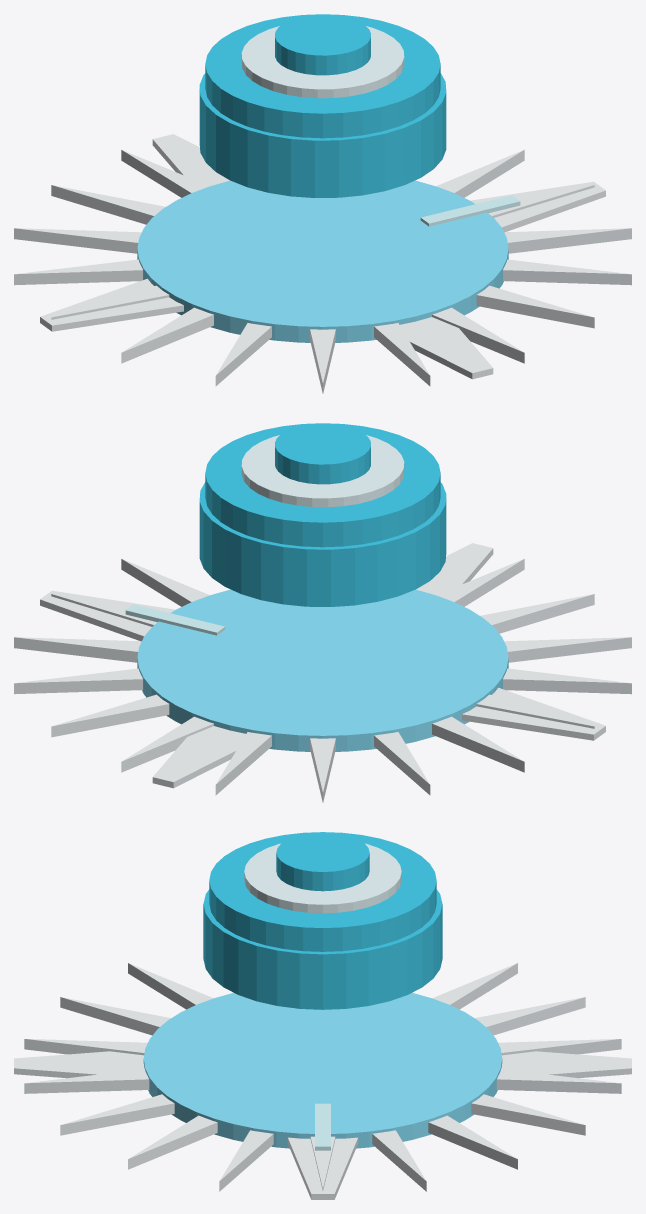
File: cutter-v1.glb
3 views of the same model, one above another, from view 1: azimuth 30°, elevation 25°; view 2: azimuth 150°, elevation 25°; view 3: azimuth 270°, elevation 25° (orthographic). The views are drawn at different scales.
Visible parts, largest first — view 1: GB_Saw_Ring, GB_Hub_Base, GB_Hub_Outer_Ring, GB_FourArm_ROTATING, GB_Hub_Inner_Ring, GB_Hub_Cap, GB_Saw_Tooth_17, GB_Saw_Tooth_09, GB_Saw_Tooth_08, GB_Saw_Tooth_18, GB_Saw_Tooth_16, GB_Saw_Tooth_07 (+10 smaller); view 2: GB_Saw_Ring, GB_Hub_Base, GB_Hub_Outer_Ring, GB_FourArm_ROTATING, GB_Hub_Inner_Ring, GB_Hub_Cap, GB_Saw_Tooth_03, GB_Saw_Tooth_11, GB_Saw_Tooth_02, GB_Saw_Tooth_12, GB_Saw_Tooth_04, GB_Saw_Tooth_13 (+10 smaller); view 3: GB_Saw_Ring, GB_Hub_Base, GB_Hub_Outer_Ring, GB_FourArm_ROTATING, GB_Hub_Inner_Ring, GB_Hub_Cap, GB_Saw_Tooth_05, GB_Saw_Tooth_15, GB_Saw_Tooth_04, GB_Saw_Tooth_16, GB_Saw_Tooth_07, GB_Saw_Tooth_13 (+10 smaller).
Boxes of the visible parts, left/top/right/bottom form: GB_Saw_Ring: left=137, top=180, right=508, bottom=342; GB_Hub_Base: left=199, top=73, right=446, bottom=197; GB_Hub_Outer_Ring: left=205, top=14, right=440, bottom=138; GB_FourArm_ROTATING: left=40, top=134, right=605, bottom=379; GB_Hub_Inner_Ring: left=241, top=26, right=404, bottom=98; GB_Hub_Cap: left=275, top=15, right=370, bottom=75; GB_Saw_Tooth_17: left=503, top=259, right=631, bottom=285; GB_Saw_Tooth_09: left=14, top=259, right=142, bottom=285; GB_Saw_Tooth_08: left=14, top=228, right=141, bottom=253; GB_Saw_Tooth_18: left=504, top=228, right=631, bottom=253; GB_Saw_Tooth_16: left=476, top=285, right=594, bottom=328; GB_Saw_Tooth_07: left=51, top=185, right=165, bottom=224; GB_Saw_Ring: left=137, top=589, right=508, bottom=751; GB_Hub_Base: left=199, top=482, right=446, bottom=606; GB_Hub_Outer_Ring: left=205, top=423, right=440, bottom=547; GB_FourArm_ROTATING: left=40, top=543, right=605, bottom=788; GB_Hub_Inner_Ring: left=241, top=435, right=404, bottom=507; GB_Hub_Cap: left=275, top=424, right=370, bottom=484; GB_Saw_Tooth_03: left=14, top=668, right=142, bottom=694; GB_Saw_Tooth_11: left=503, top=668, right=631, bottom=694; GB_Saw_Tooth_02: left=14, top=637, right=141, bottom=662; GB_Saw_Tooth_12: left=504, top=637, right=631, bottom=662; GB_Saw_Tooth_04: left=51, top=694, right=169, bottom=737; GB_Saw_Tooth_13: left=480, top=594, right=594, bottom=633; GB_Saw_Ring: left=143, top=992, right=502, bottom=1148; GB_Hub_Base: left=203, top=889, right=442, bottom=1009; GB_Hub_Outer_Ring: left=209, top=832, right=436, bottom=951; GB_FourArm_ROTATING: left=14, top=1051, right=631, bottom=1199; GB_Hub_Inner_Ring: left=244, top=843, right=401, bottom=913; GB_Hub_Cap: left=276, top=832, right=369, bottom=891; GB_Saw_Tooth_05: left=496, top=1069, right=621, bottom=1093; GB_Saw_Tooth_15: left=24, top=1069, right=149, bottom=1093; GB_Saw_Tooth_04: left=471, top=1094, right=585, bottom=1135; GB_Saw_Tooth_16: left=60, top=1094, right=174, bottom=1135; GB_Saw_Tooth_07: left=475, top=997, right=585, bottom=1035; GB_Saw_Tooth_13: left=60, top=997, right=170, bottom=1035.
Size of the model in its own units: 4.24 by 1.68 by 4.24.
